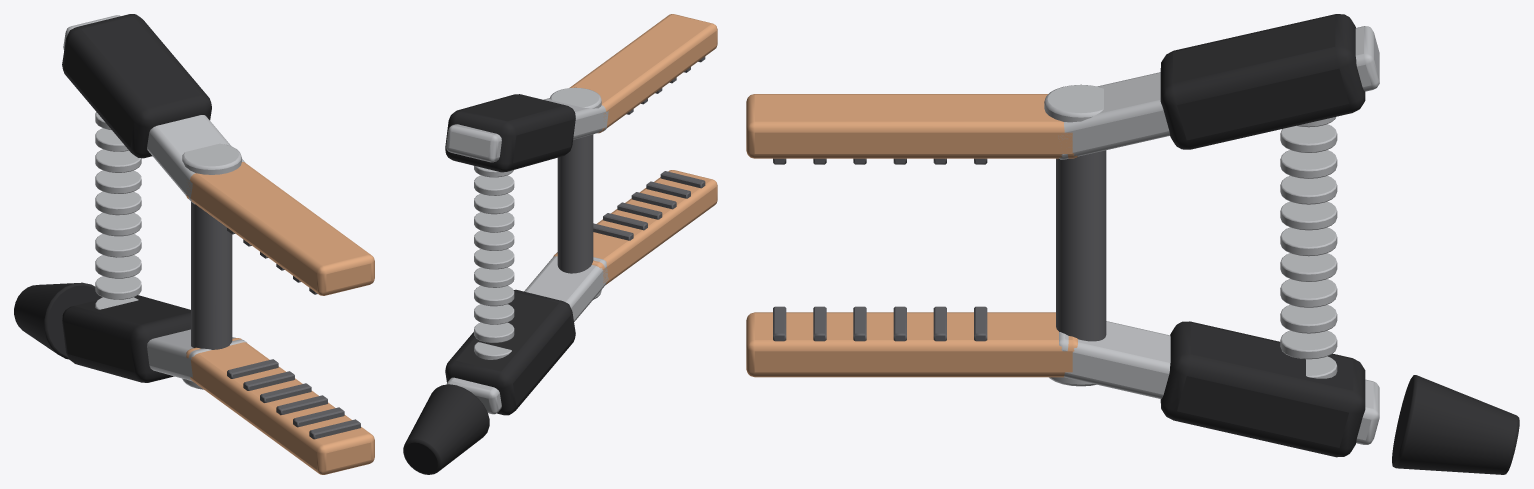
File: ground_clamp.glb
3 views of the same model, side by side, from view 1: azimuth 30°, elevation 25°; view 2: azimuth 150°, elevation 25°; view 3: azimuth 270°, elevation 25° (orthographic). The views are drawn at different scales.
Parts seen in each view (by area): view 1: ground_clamp; view 2: ground_clamp; view 3: ground_clamp.
Boxes of the visible parts, x1,y1,x2,y2 form: ground_clamp: [14, 14, 374, 474]; ground_clamp: [403, 14, 717, 474]; ground_clamp: [746, 14, 1519, 474].
Bounding box in the file's own units: 0.032 × 0.1453 × 0.231.
